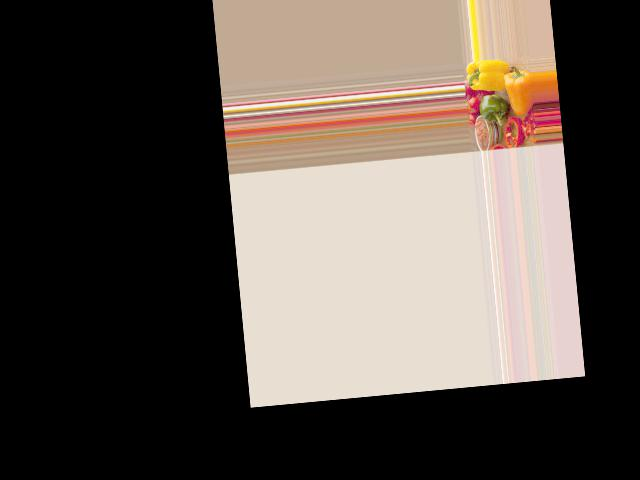bell_pepper: (465, 59, 504, 94)
